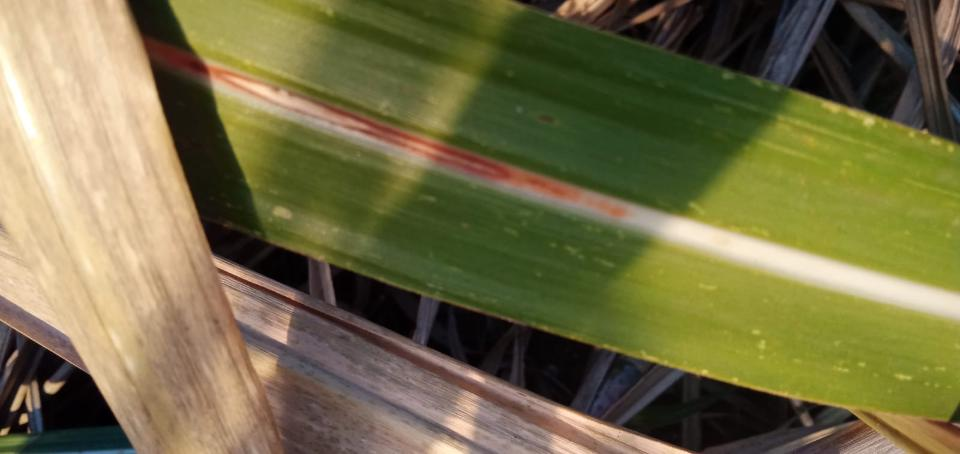RedRot: (143, 39, 630, 221)
